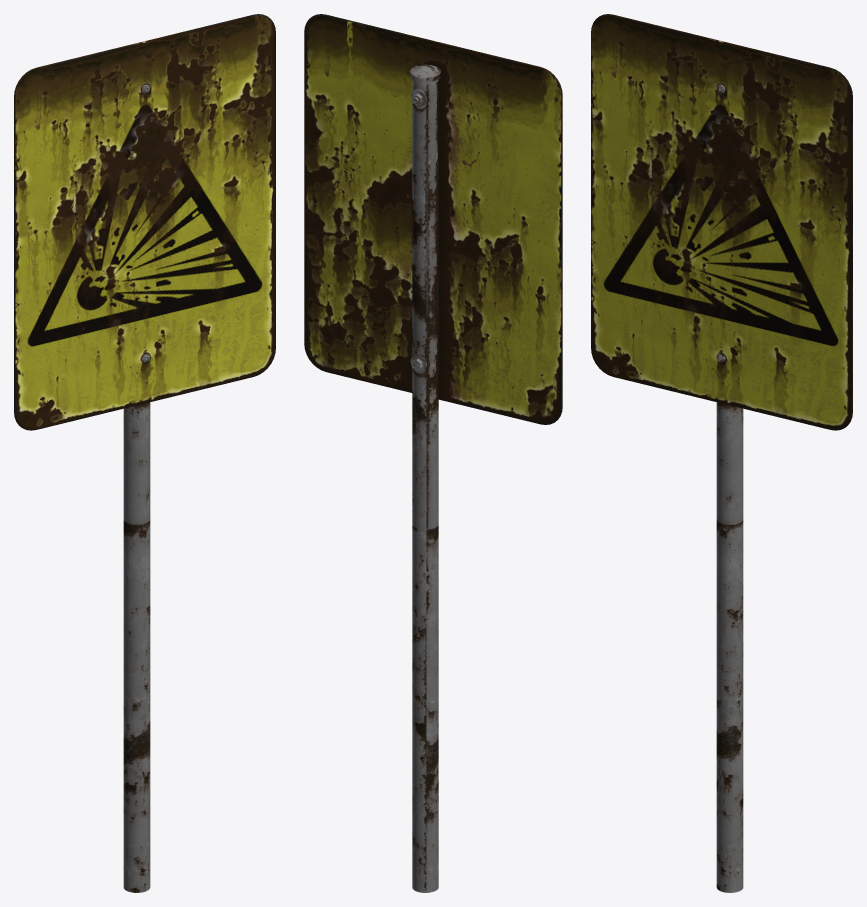
File: worn_explosion_warning_sign.glb
3 views of the same model, side by side, from view 1: azimuth 30°, elevation 25°; view 2: azimuth 150°, elevation 25°; view 3: azimuth 330°, elevation 25° (orthographic).
Parts seen in each view (by area): view 1: Sign, Post; view 2: Sign, Post; view 3: Sign, Post.
Boxes of the visible parts, x1,y1,x2,y2 form: Sign: [14, 14, 275, 430]; Post: [123, 402, 150, 892]; Sign: [304, 14, 562, 424]; Post: [410, 64, 440, 892]; Sign: [591, 14, 852, 430]; Post: [716, 402, 743, 892].
Size of the model in its own units: 0.7594 by 2.36 by 0.1015.
Materials: 3 (3 with a texture image).
